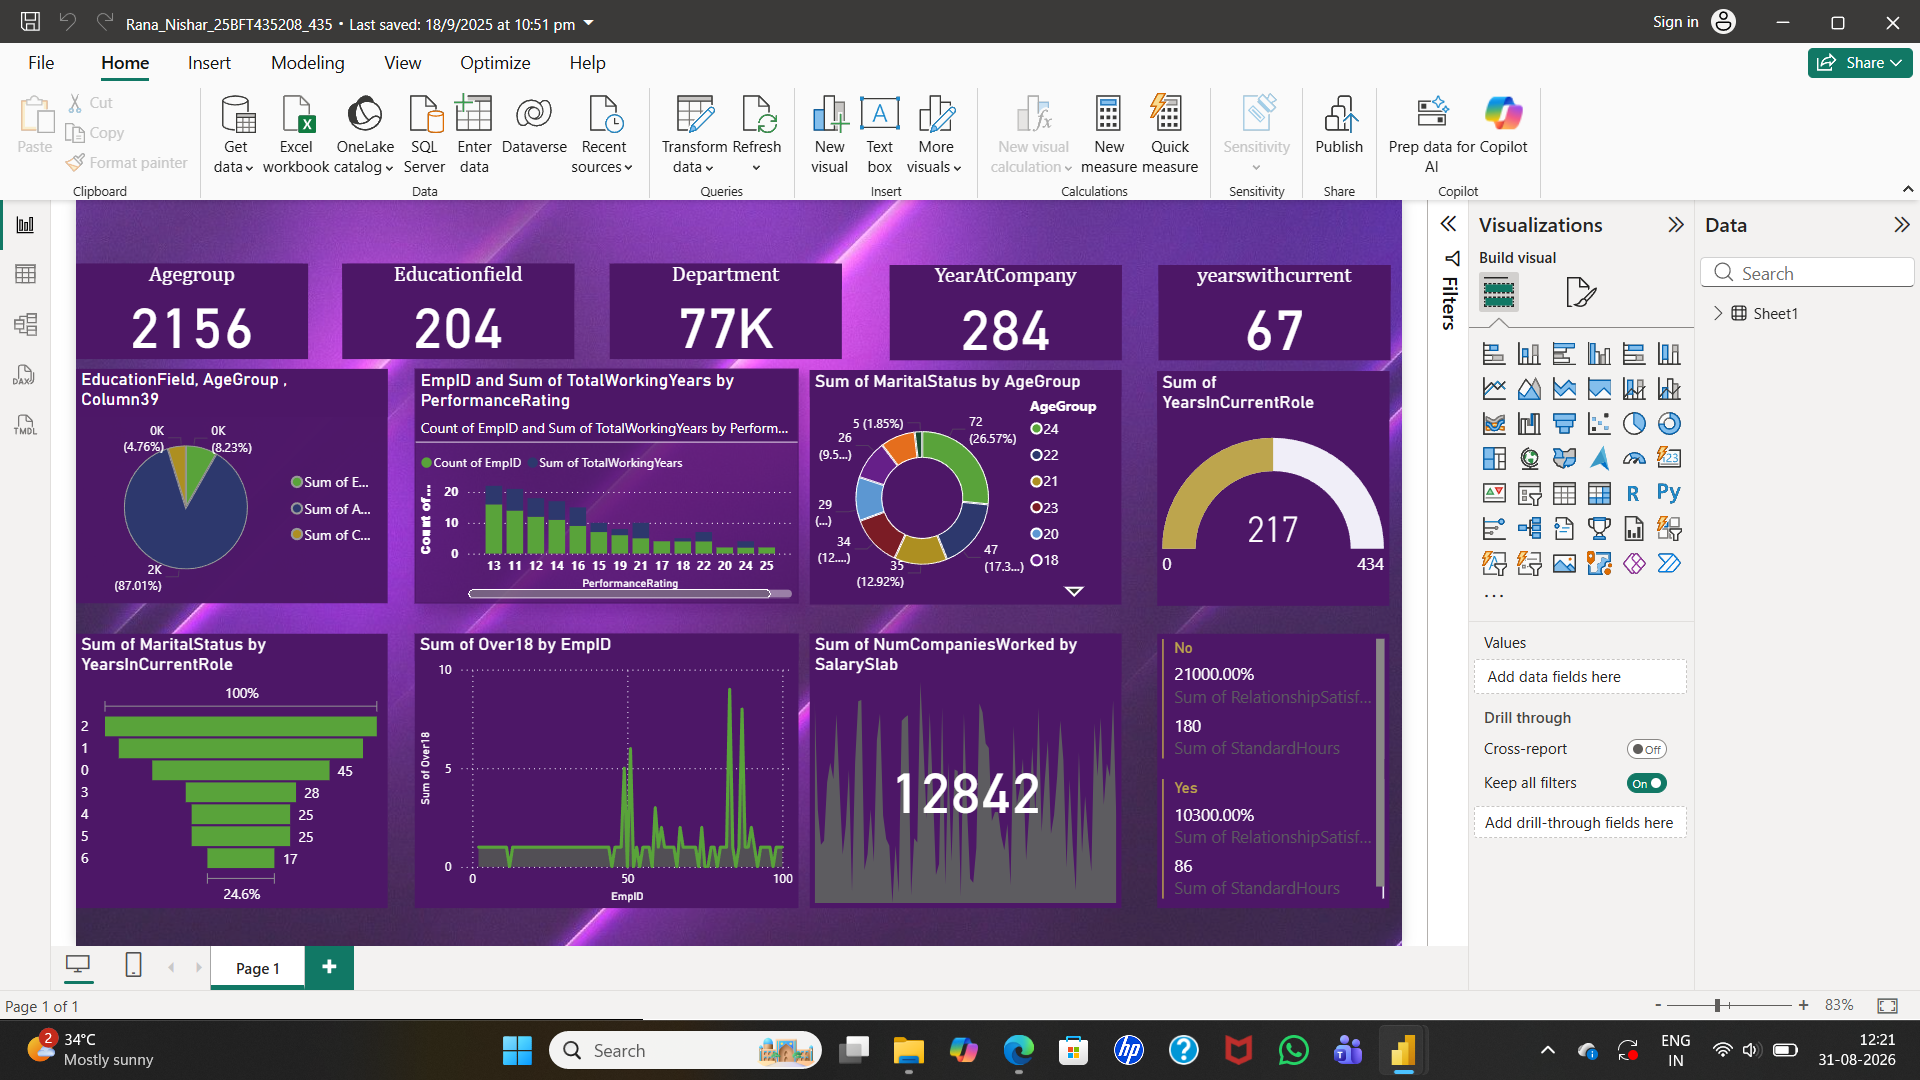

The dashboard page shown, as its layout file describes it:
{"tool":"powerbi","page":{"name":"Page 1","canvas":[1280,720],"ordinal":0},"visuals":[{"type":"card","title":"Agegroup","fields":{"Values":["Sum(Sheet1.AgeGroup)"]},"box":[0,61.7,223.7,91.9],"z":0},{"type":"card","title":"Educationfield","fields":{"Values":["Sum(Sheet1.EducationField)"]},"box":[256.6,61.7,223.7,91.9],"z":1000},{"type":"card","title":"Department","fields":{"Values":["Sum(Sheet1.Department)"]},"box":[514.6,61.7,223.7,91.9],"z":2000},{"type":"pieChart","title":"EducationField, AgeGroup , Column39","fields":{"Y":["Sum(Sheet1.EducationField)","Sum(Sheet1.AgeGroup)","Sum(Sheet1.Column39)"]},"box":[0,163.3,300.5,226.4],"z":3000},{"type":"columnChart","title":"EmpID and Sum of TotalWorkingYears by PerformanceRating","fields":{"Y":["CountNonNull(Sheet1.EmpID)","Sum(Sheet1.TotalWorkingYears)"],"Category":["Sheet1.PerformanceRating"]},"box":[326.6,163.3,370.5,226.4],"z":4000},{"type":"card","title":"YearAtCompany","fields":{"Values":["Sum(Sheet1.YearsAtCompany)"]},"box":[784.9,63.1,223.7,91.9],"z":5000},{"type":"card","title":"yearswithcurrent","fields":{"Values":["Sum(Sheet1.YearsWithCurrManager)"]},"box":[1044.3,63.1,223.7,91.9],"z":6000},{"type":"donutChart","fields":{"Y":["Sum(Sheet1.MaritalStatus)"],"Category":["Sheet1.AgeGroup"]},"box":[708.1,164.7,300.5,226.4],"z":7000},{"type":"funnel","fields":{"Y":["Sum(Sheet1.MaritalStatus)"],"Category":["Sheet1.YearsInCurrentRole"]},"box":[0,418.5,300.5,264.8],"z":8000},{"type":"stackedAreaChart","fields":{"Category":["Sheet1.EmpID"],"Y":["Sum(Sheet1.Over18)"]},"box":[327,419,370,265],"z":9000},{"type":"kpi","fields":{"Indicator":["Sum(Sheet1.NumCompaniesWorked)"],"TrendLine":["Sheet1.SalarySlab"]},"box":[708,419,301,265],"z":10000},{"type":"gauge","fields":{"Y":["Sum(Sheet1.YearsInCurrentRole)"]},"box":[1044,165,224,226],"z":11000},{"type":"multiRowCard","fields":{"Values":["Sheet1.PercentSalaryHike","Sum(Sheet1.RelationshipSatisfaction)","Sum(Sheet1.StandardHours)"]},"box":[1044,419,224,265],"z":11001}]}

Visuals, with their boxes on the page's 1280x720 design canvas (x1, y1, x2, y2). These are canvas units, not pixel positions in the 1920x1080 screenshot, which may show the page scaled, cropped or inside an application window:
"Agegroup" card: (0, 62, 224, 154)
"Educationfield" card: (257, 62, 480, 154)
"Department" card: (515, 62, 738, 154)
"EducationField, AgeGroup , Column39" pieChart: (0, 163, 300, 390)
"EmpID and Sum of TotalWorkingYears by PerformanceRating" columnChart: (327, 163, 697, 390)
"YearAtCompany" card: (785, 63, 1009, 155)
"yearswithcurrent" card: (1044, 63, 1268, 155)
donutChart - Sum(Sheet1.MaritalStatus) x Sheet1.AgeGroup: (708, 165, 1009, 391)
funnel - Sum(Sheet1.MaritalStatus) x Sheet1.YearsInCurrentRole: (0, 418, 300, 683)
stackedAreaChart - Sheet1.EmpID x Sum(Sheet1.Over18): (327, 419, 697, 684)
kpi - Sum(Sheet1.NumCompaniesWorked) x Sheet1.SalarySlab: (708, 419, 1009, 684)
gauge - Sum(Sheet1.YearsInCurrentRole): (1044, 165, 1268, 391)
multiRowCard - Sheet1.PercentSalaryHike x Sum(Sheet1.RelationshipSatisfaction): (1044, 419, 1268, 684)
